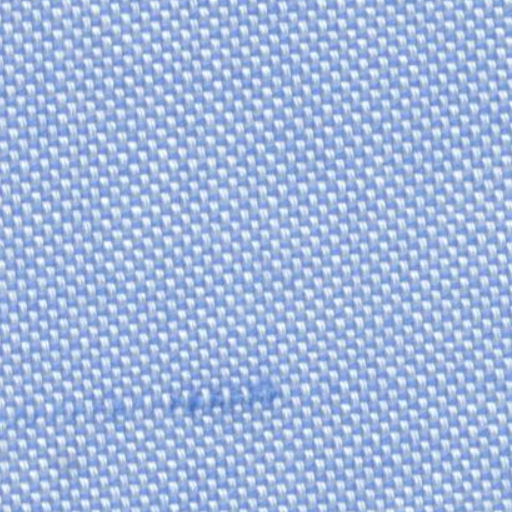DaiSha: (16, 374, 296, 418)
